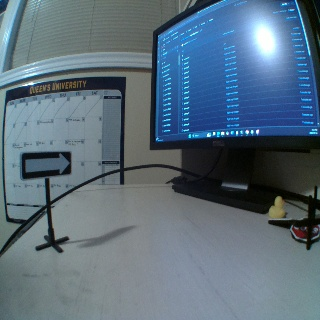sign_oneway_right: (18, 152, 72, 177)
